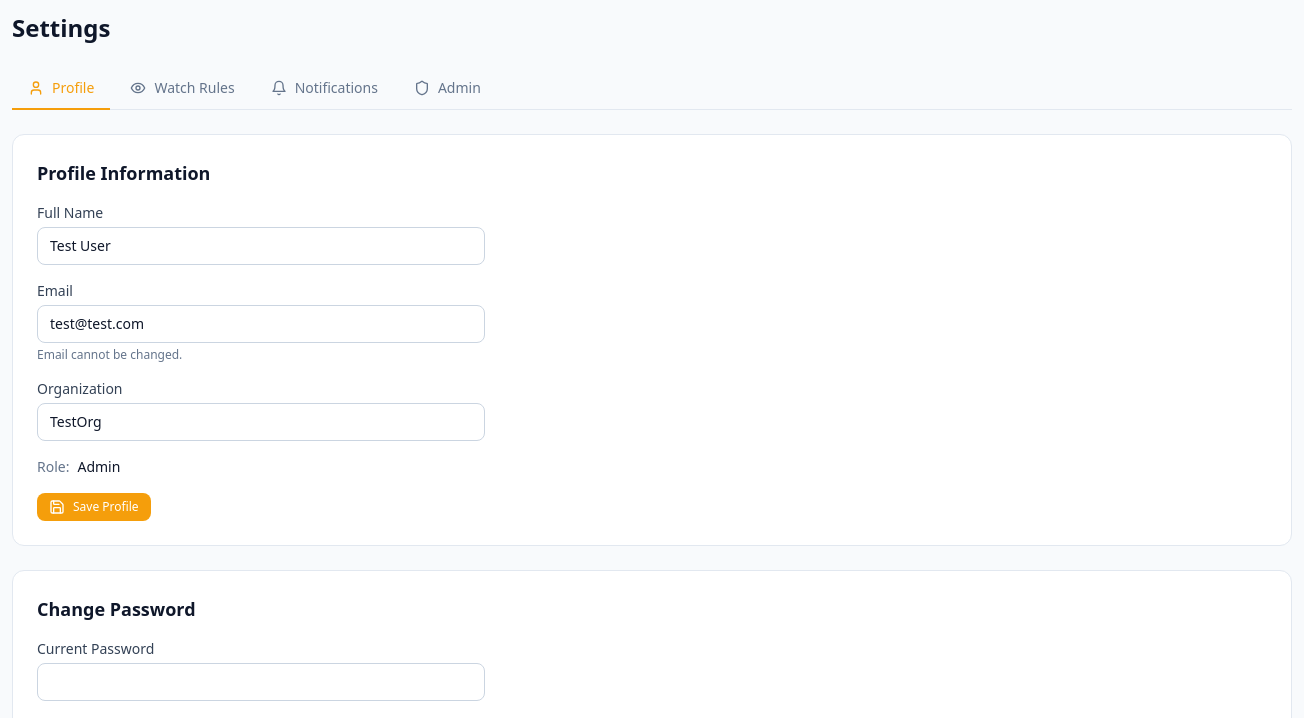
Test: Settings tab navigation › switches to Watch Rules tab
Click the tab "Watch Rules".
click(182, 89)  # box x1=114 y1=68 x2=251 y2=110
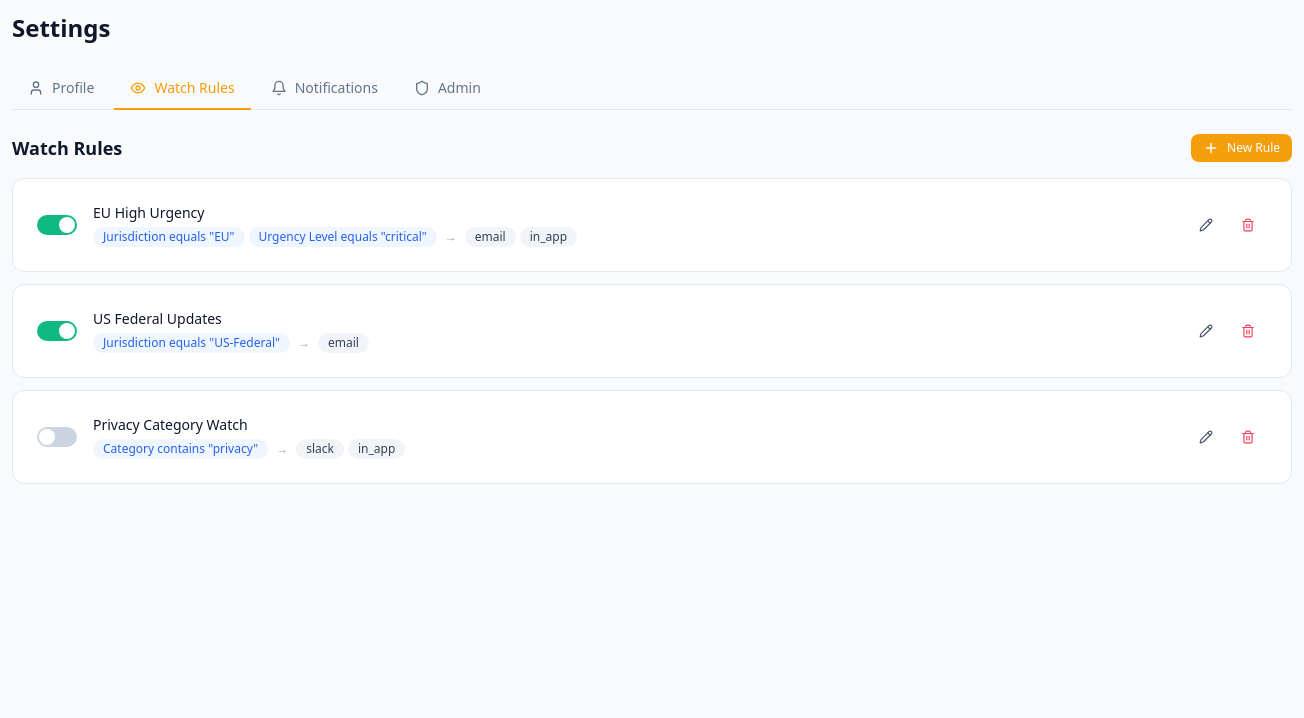
Check: the text "EU High Urgency" is shown, box x1=93 y1=203 x2=204 y2=222
Check: the text "US Federal Updates" is shown, box x1=93 y1=309 x2=222 y2=328
